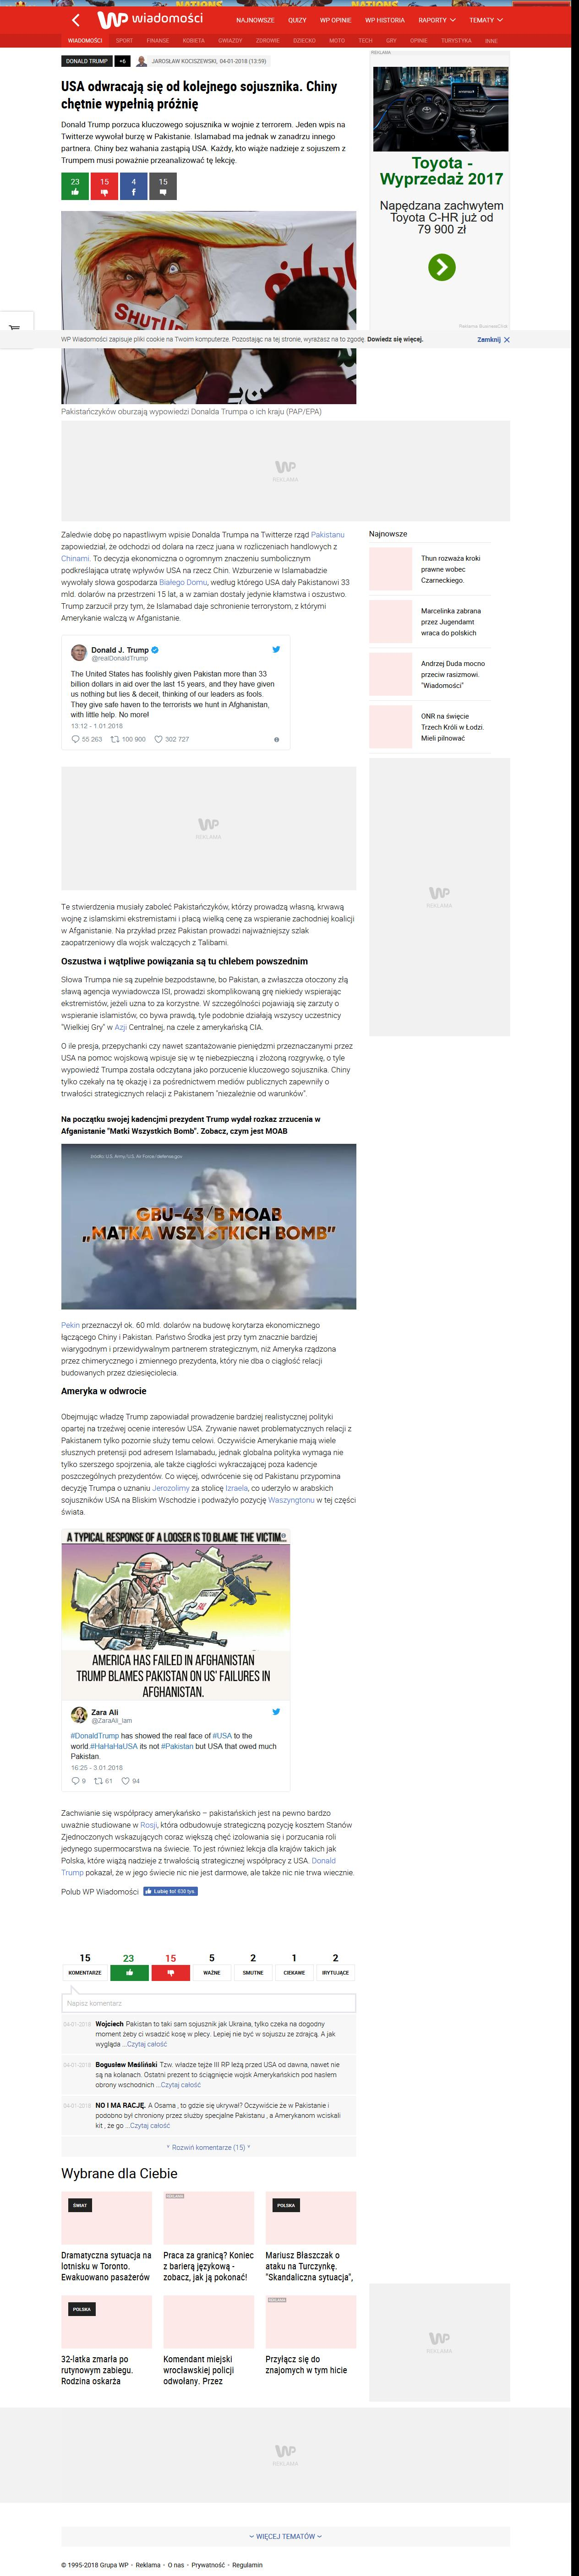title: (61, 79, 339, 112)
